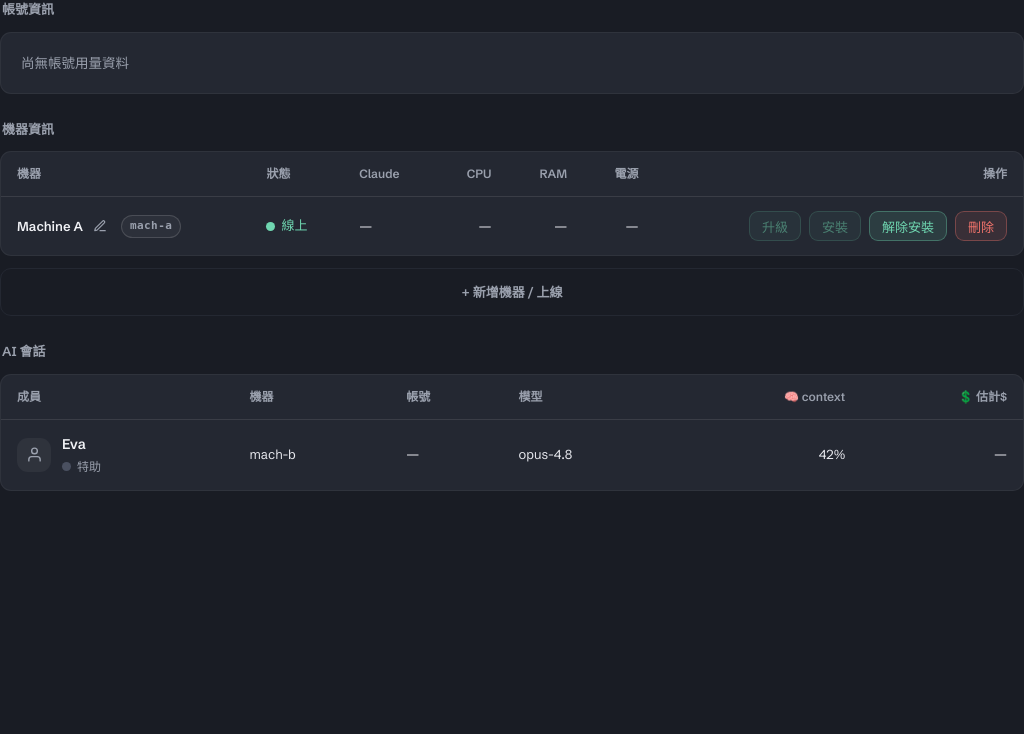
Test: Monitor entry · undispatched activate (T-7fa1) › shows the notice when activation_pending comes back true
The width and height of the screenshot is (1024, 734).
What coordinates should you click on to do the following:
click the text "Eva"
I would click on:
 (74, 444)
Its box is [62,435,86,453].
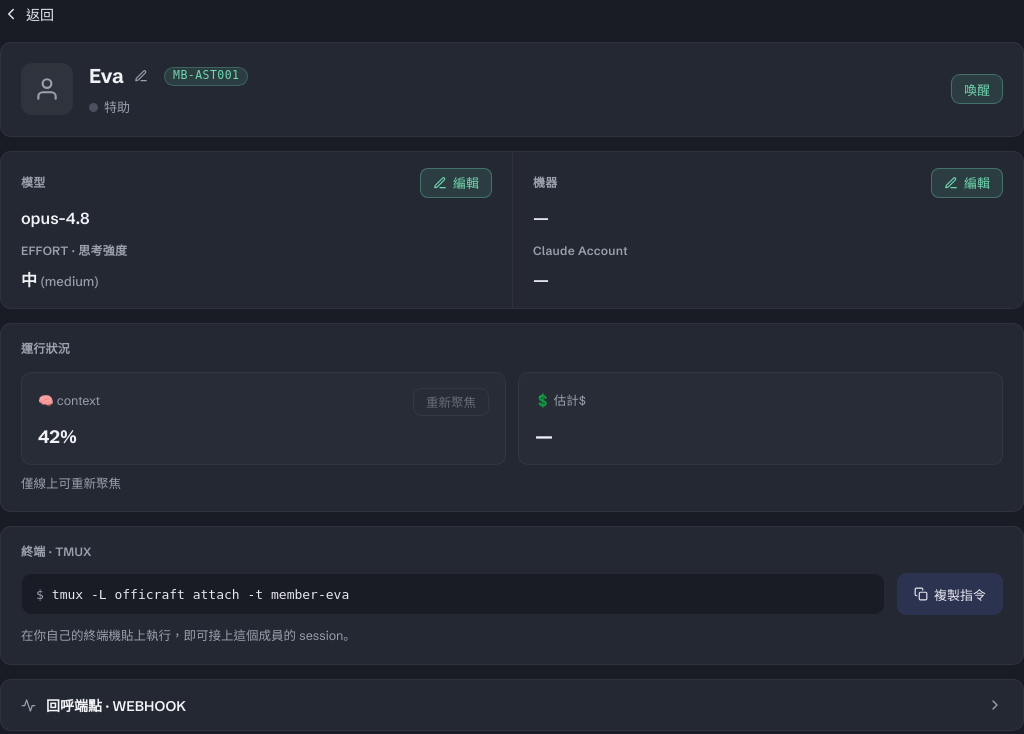
Result: the button with test id "member-action-spawn" is shown
Result: the button with test id "member-action-spawn" is enabled
What coordinates should you click on to do the following:
click the button with test id "member-action-spawn"
I would click on:
 (977, 89)
Its box is [951,74,1003,104].
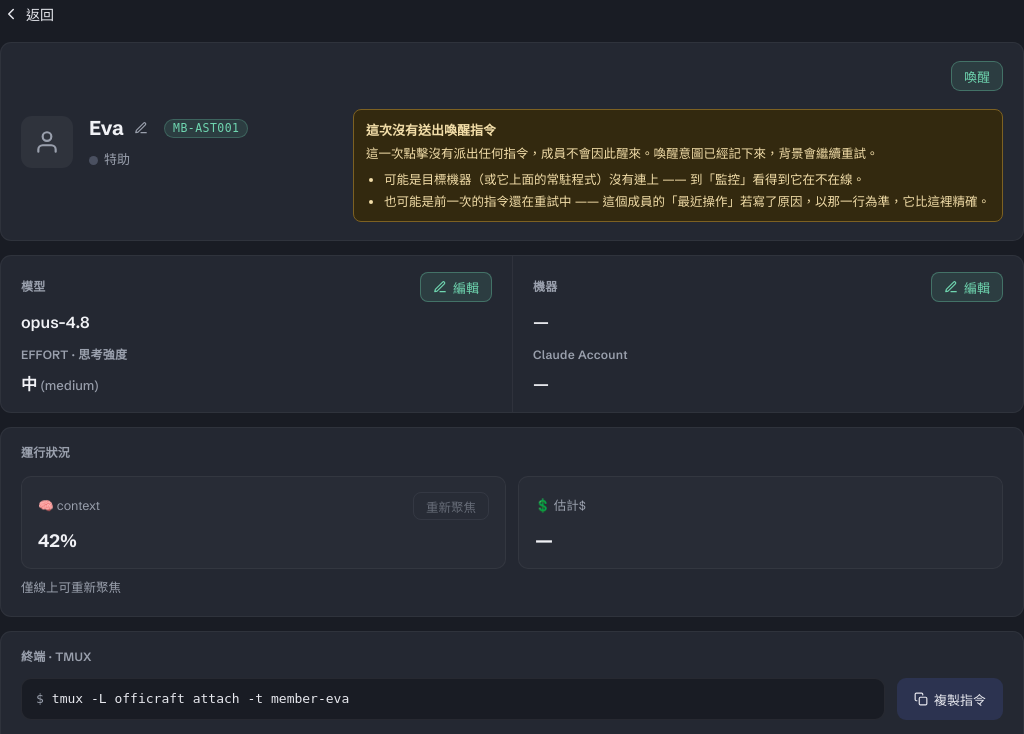
Result: the message with test id "mp-wake-undispatched" is shown at [353,109,1003,222]
